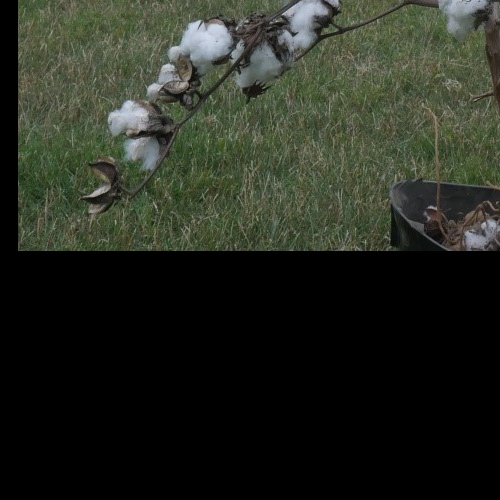mature_boll: (95, 58, 200, 229), (190, 5, 332, 116)
